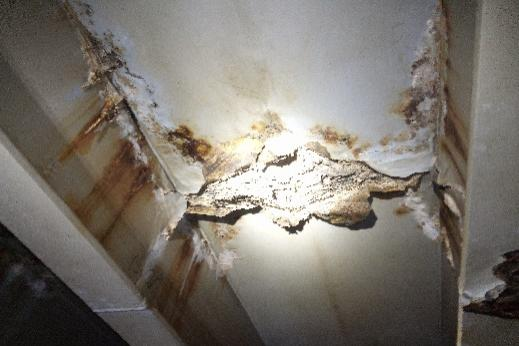corrosion: (199, 130, 425, 245), (153, 231, 222, 346), (85, 135, 149, 243), (63, 1, 130, 88), (42, 87, 122, 159), (469, 243, 519, 322), (395, 38, 434, 133), (154, 111, 217, 167), (441, 79, 476, 175), (428, 183, 462, 265)
